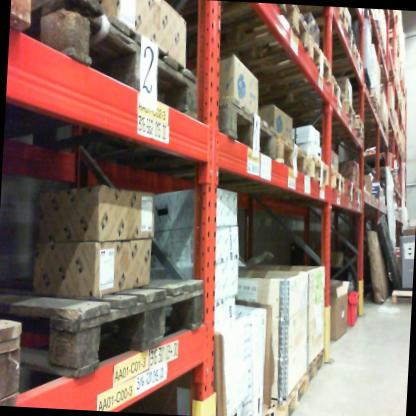pallet: (0, 253, 221, 396), (27, 0, 214, 128), (207, 27, 336, 104), (179, 3, 311, 59), (203, 91, 281, 167), (0, 313, 40, 406), (270, 77, 340, 118), (285, 7, 352, 43), (275, 360, 311, 416), (342, 79, 385, 123), (8, 0, 47, 47), (272, 131, 311, 177), (325, 42, 366, 83), (308, 30, 357, 61), (303, 143, 333, 191), (321, 120, 369, 150), (308, 343, 331, 396), (331, 90, 354, 130), (325, 157, 346, 199), (337, 173, 357, 203), (250, 398, 280, 416), (388, 285, 411, 303), (356, 181, 367, 206)
small_load_carrier: (343, 291, 361, 327)
